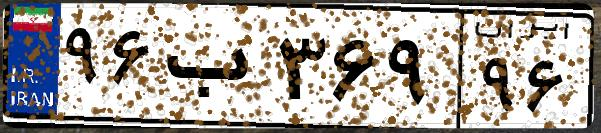3: (270, 28, 330, 110)
6: (330, 28, 385, 110), (525, 38, 570, 115), (110, 28, 158, 98)
9: (385, 28, 445, 110), (57, 26, 110, 100), (475, 38, 525, 113)
ب: (158, 20, 270, 120)
